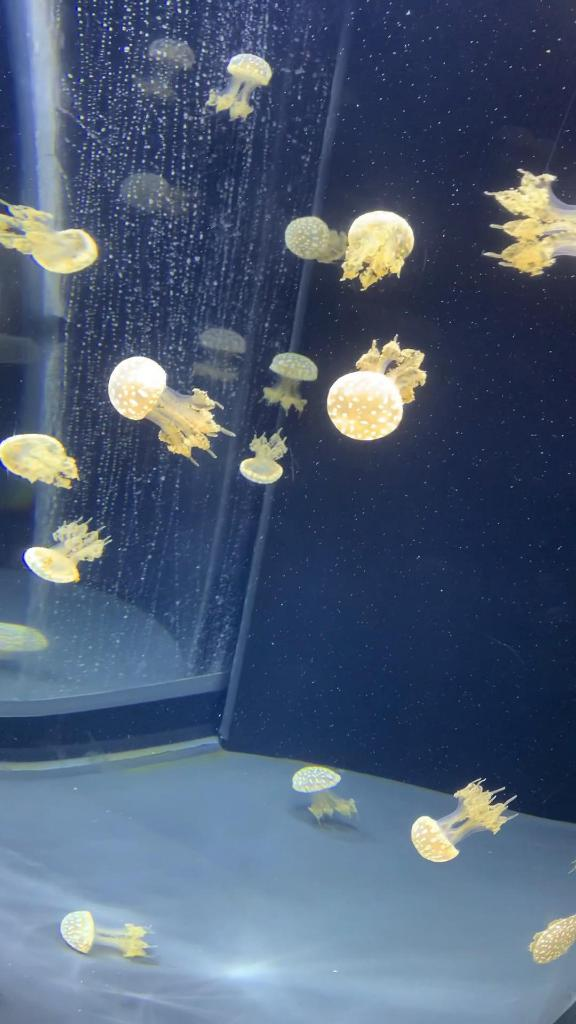jellyfish: (324, 368, 408, 444), (107, 354, 171, 424), (32, 221, 104, 279), (348, 204, 418, 260), (0, 432, 68, 488), (408, 812, 464, 868), (527, 906, 575, 966), (20, 544, 83, 588), (281, 210, 331, 264), (223, 48, 279, 92), (58, 906, 98, 958), (0, 618, 50, 658), (267, 351, 321, 387), (290, 763, 342, 795), (238, 455, 286, 487)
